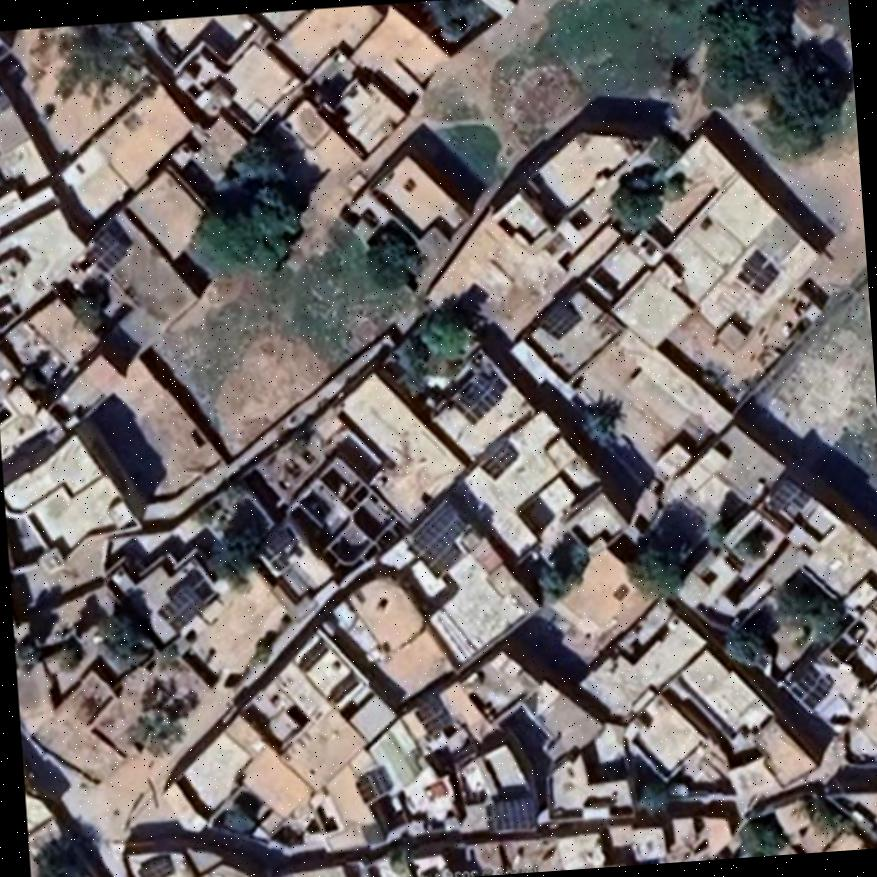Solarpanel: (412, 504, 466, 565), (156, 583, 206, 630), (786, 661, 830, 711), (488, 796, 537, 831), (87, 233, 126, 272)
